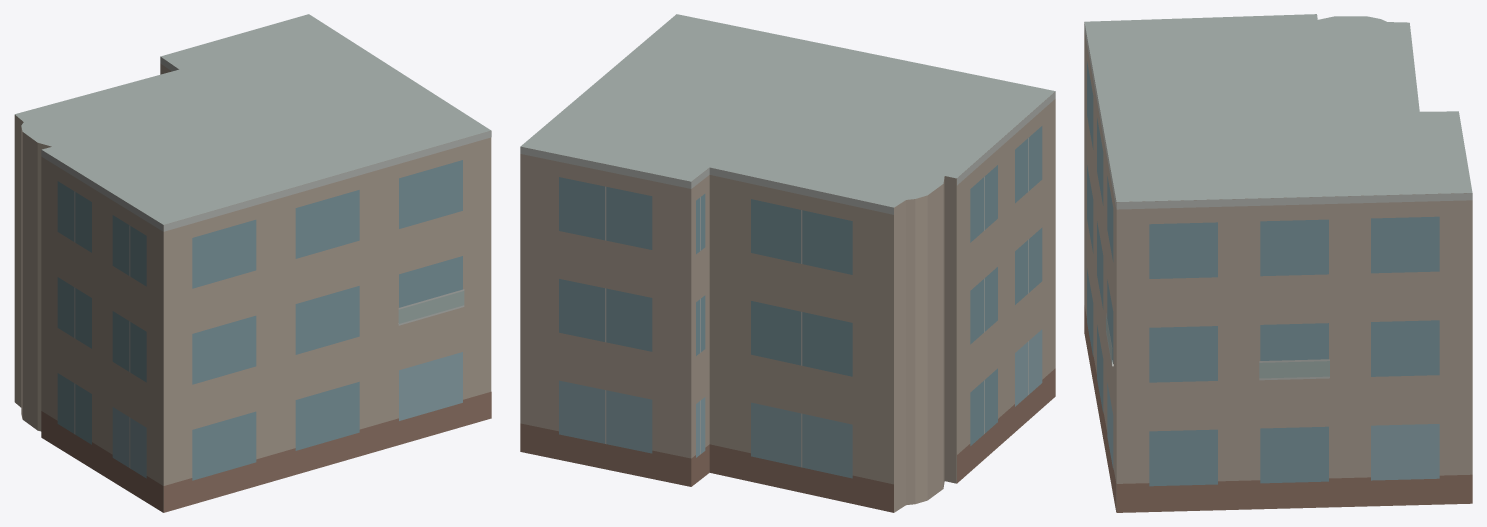
The model's file is survey-upis-32679041.glb.
The picture shows the model from 3 angles, left to right: view 1: azimuth 30°, elevation 25°; view 2: azimuth 150°, elevation 25°; view 3: azimuth 270°, elevation 25°; orthographic projection. The views are drawn at different scales.
Parts seen in each view (by area): view 1: survey-upis-32679041.tmp; view 2: survey-upis-32679041.tmp; view 3: survey-upis-32679041.tmp.
Boxes of the visible parts, x1,y1,x2,y2 form: survey-upis-32679041.tmp: (14, 14, 491, 512); survey-upis-32679041.tmp: (520, 14, 1055, 512); survey-upis-32679041.tmp: (1084, 14, 1472, 512).
Bounding box in the file's own units: 13.25 × 10.2 × 11.56.
